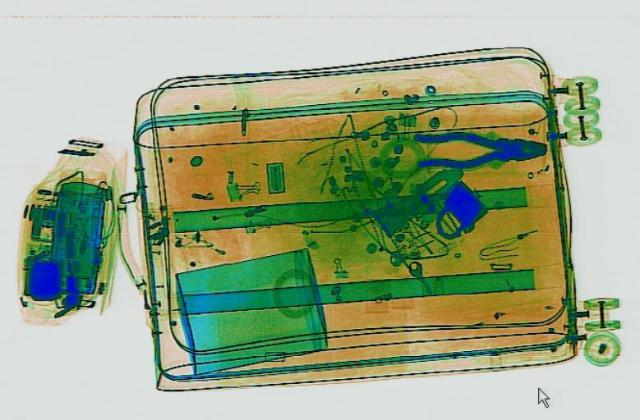Pliers: (412, 129, 546, 167)
